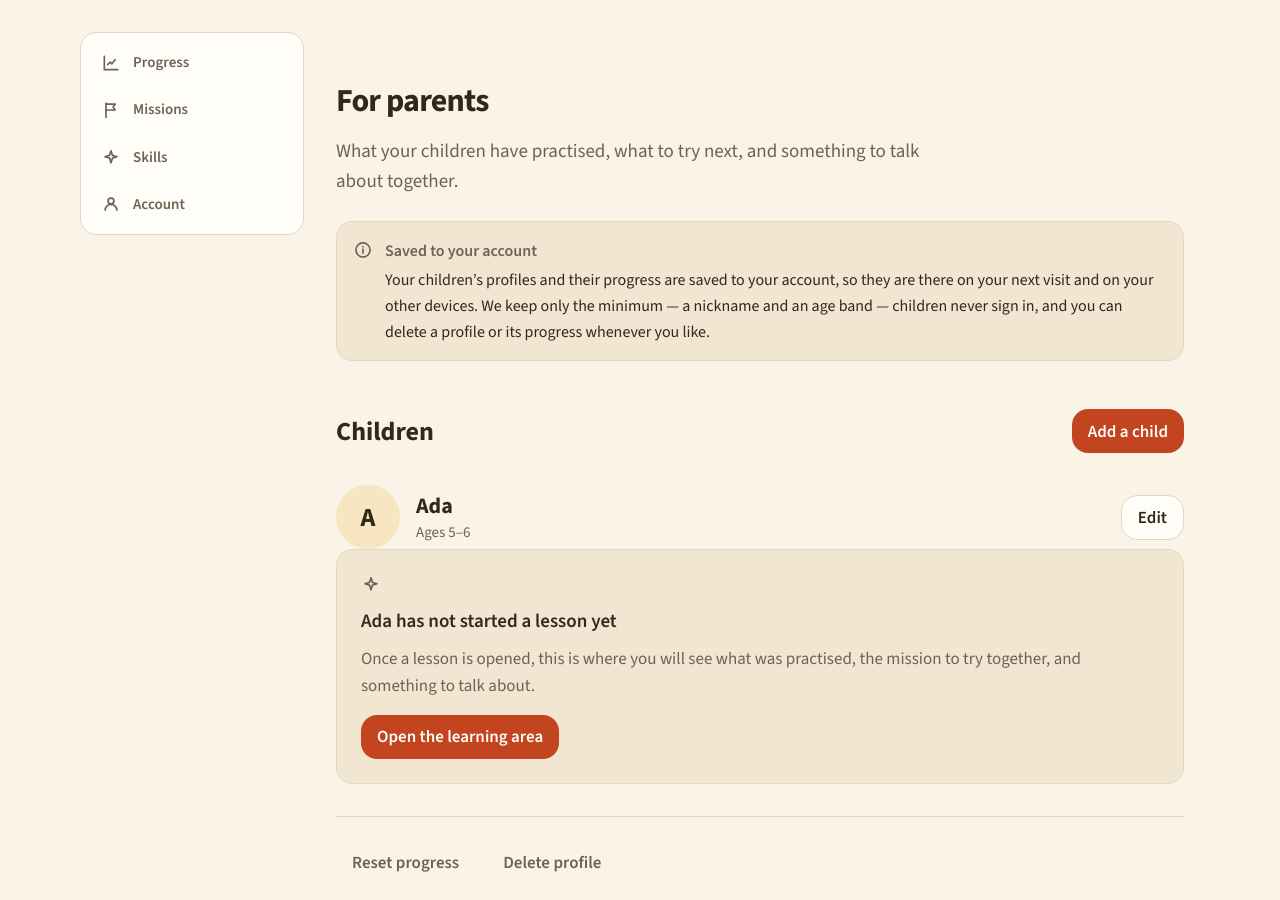
Test: editing a profile › renames a child
The width and height of the screenshot is (1280, 900).
Step 1. Click the button with aria-label "Edit profile: Ada" → point(1152, 517), box [1121,495,1184,540]
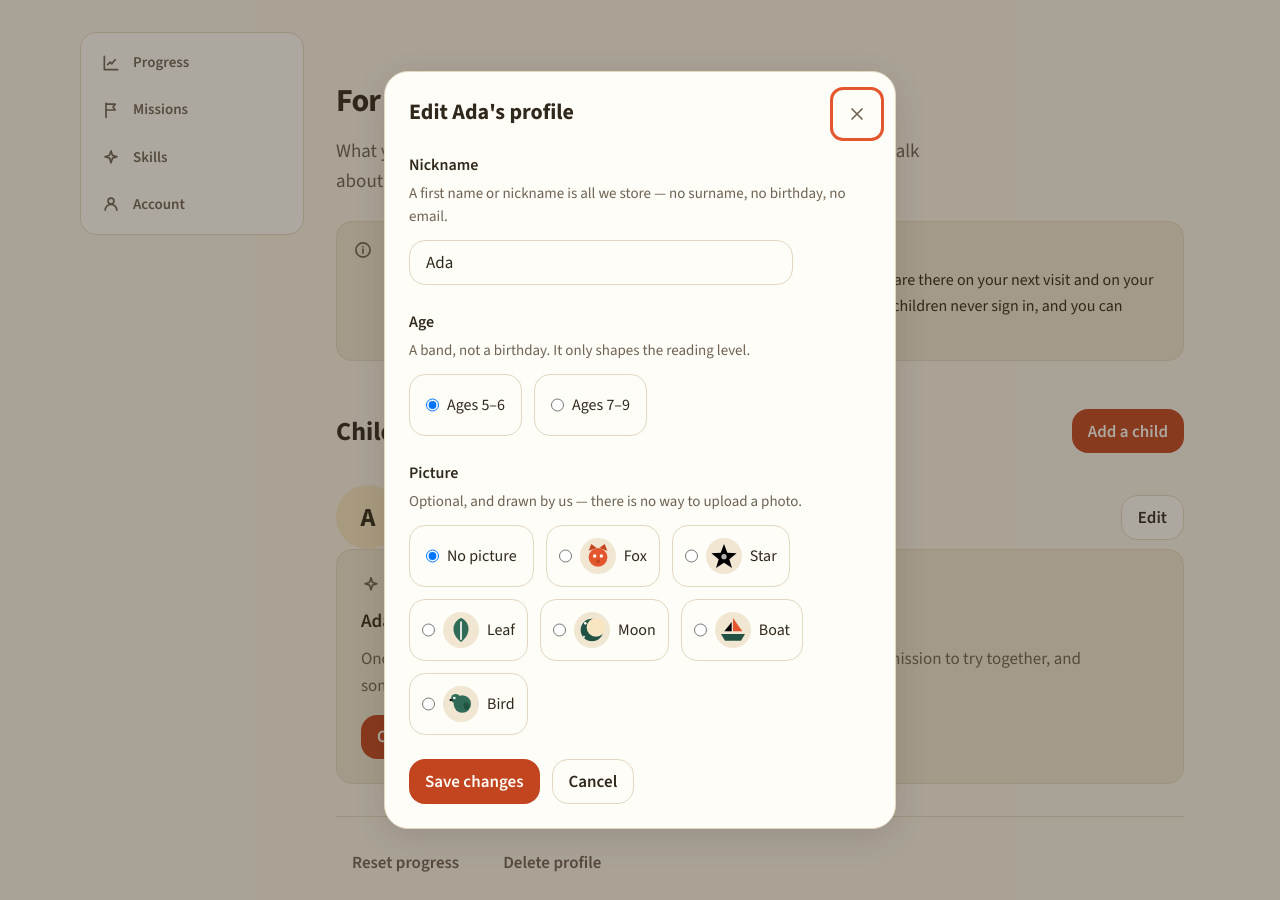
Step 2. Replace the text in the field labelled "Nickname" with "Adaline" → point(601, 263), box [409,240,793,285]
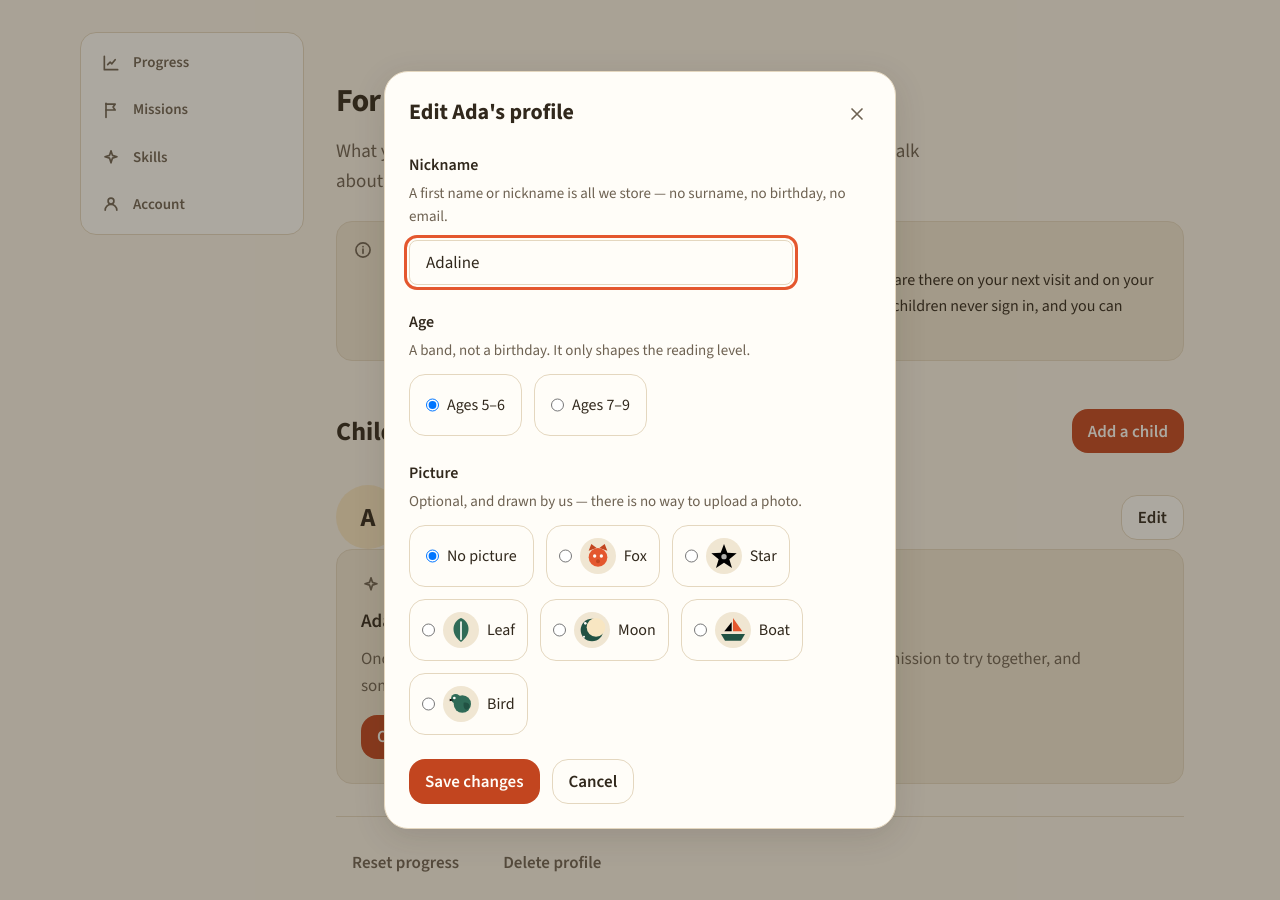
Step 3. Click the button "Save changes" → point(474, 782), box [409,759,540,804]
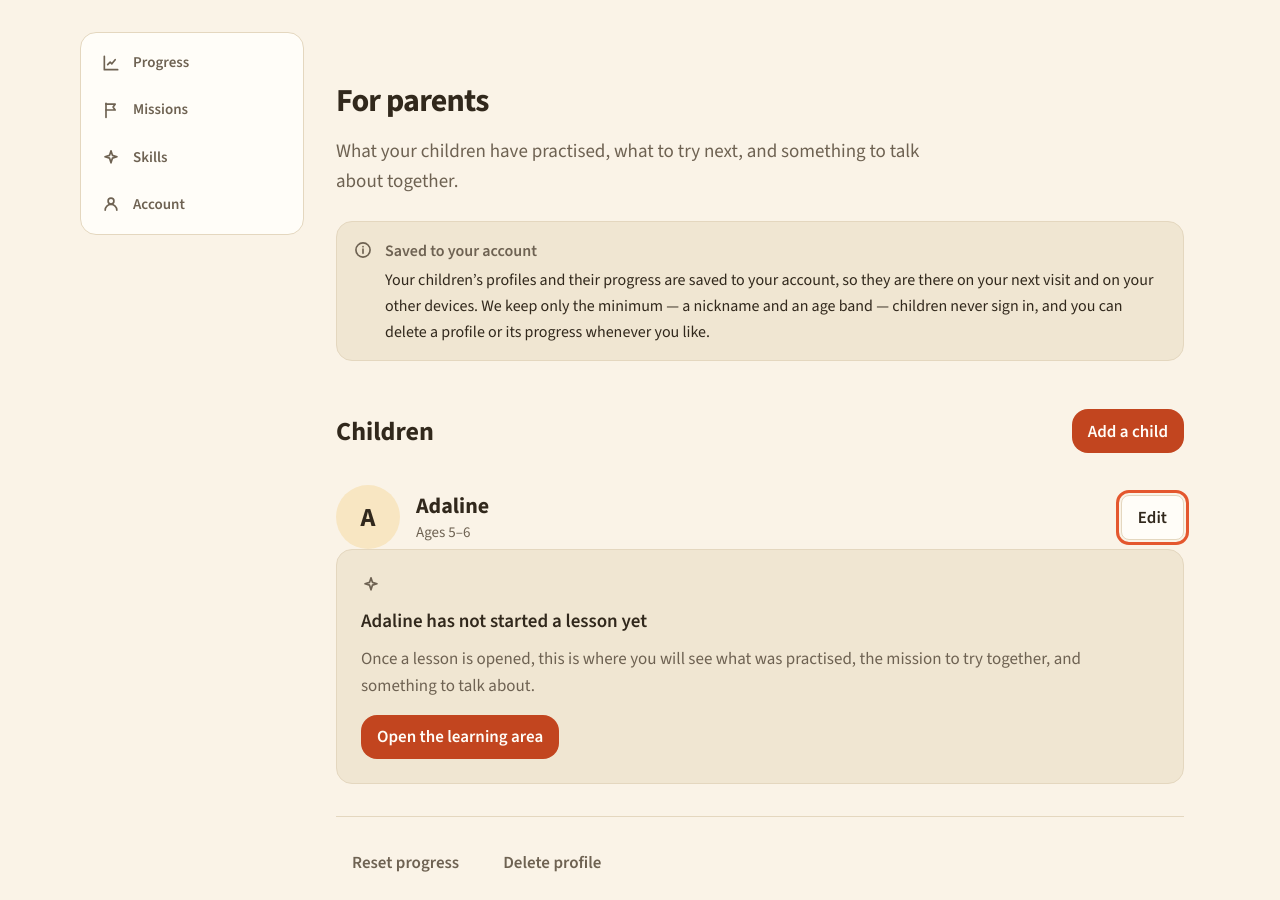
Result: the heading "Adaline" is shown at [416,491,489,520]
